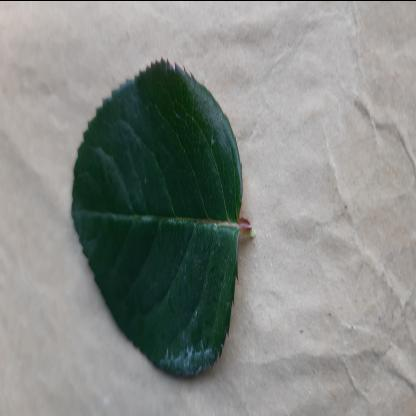normal: (72, 56, 243, 374)
